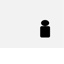human: (38, 17, 51, 40)
